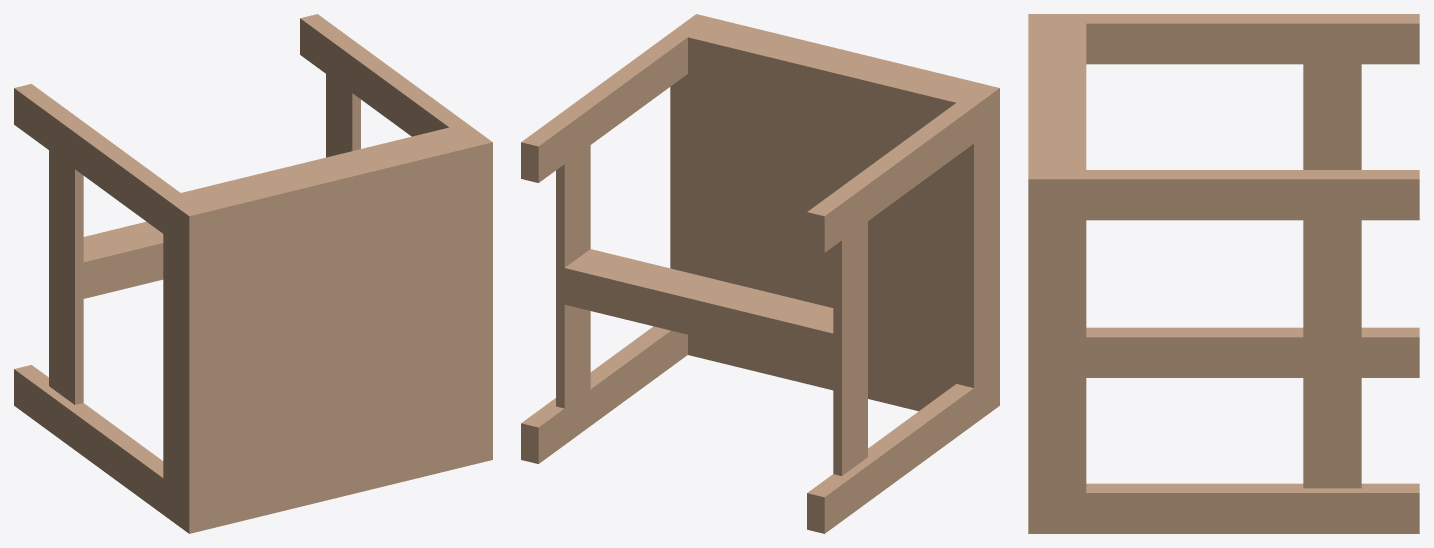
File: table.glb
The picture shows the model from 3 angles, left to right: view 1: azimuth 30°, elevation 25°; view 2: azimuth 150°, elevation 25°; view 3: azimuth 270°, elevation 25°; orthographic projection. The views are drawn at different scales.
Parts seen in each view (by area): view 1: furniture/table; view 2: furniture/table; view 3: furniture/table.
Part boxes in pixels (box(x1,y1,x2,y2)): furniture/table: box(14, 14, 492, 533); furniture/table: box(521, 14, 999, 533); furniture/table: box(1028, 14, 1419, 533).
Size of the model in its own units: 1 by 1 by 1.
